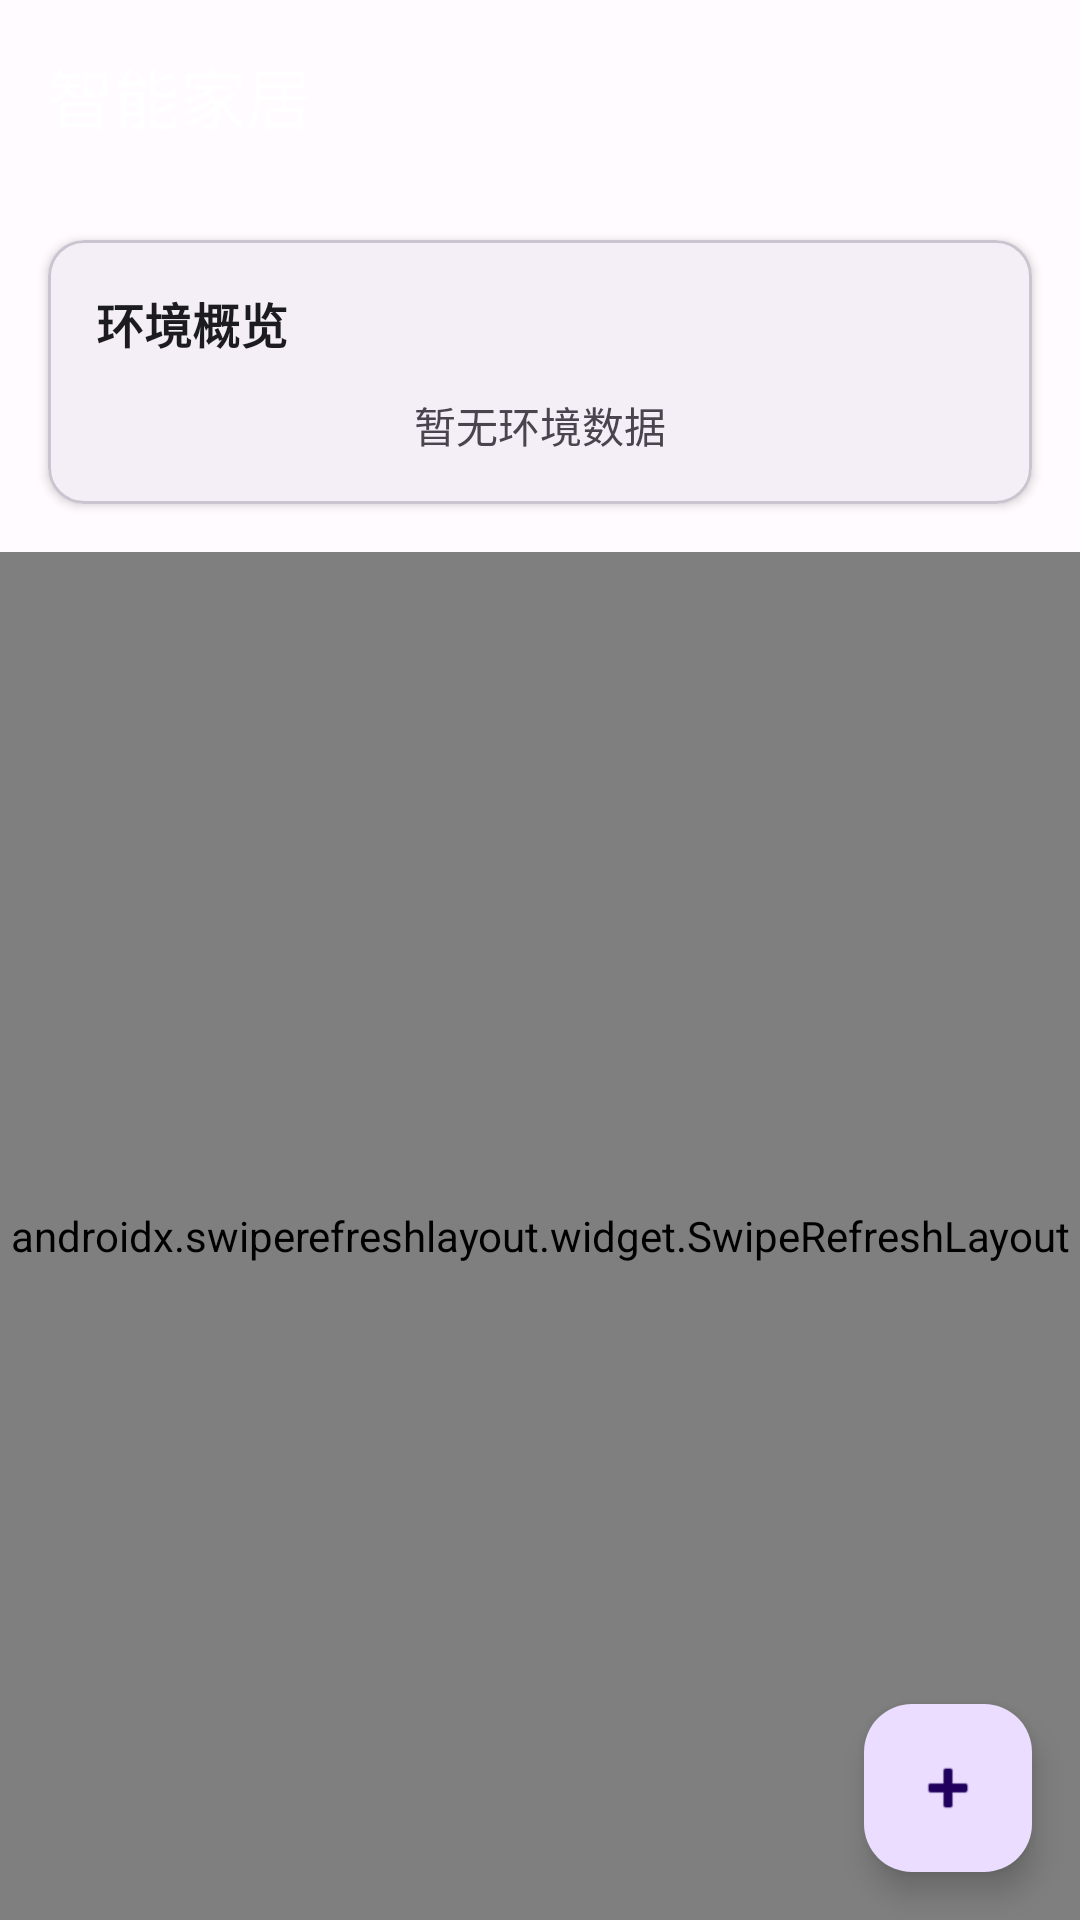

Where to tap for icons on this 1080 x 1920 app screen, as (x=x, y=y):
添加设备: (x=948, y=1788)
